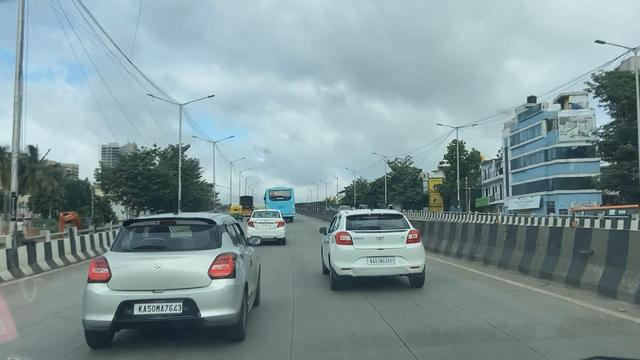HMV: (253, 169, 296, 224)
LMV: (59, 179, 261, 352), (317, 197, 428, 288), (239, 195, 292, 247)
